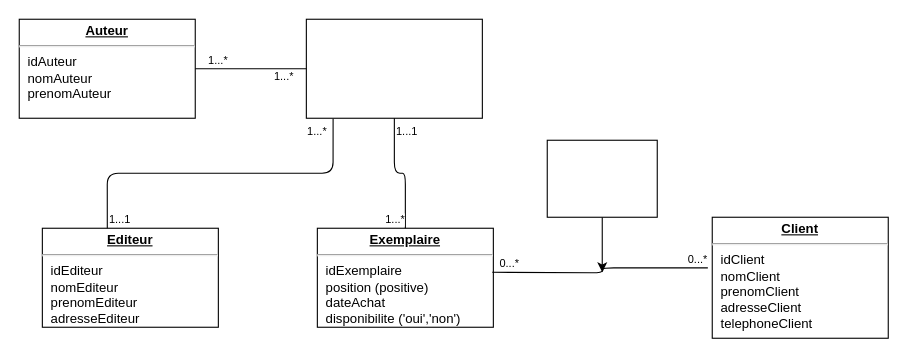
Some shapes in this 908 by 358 pixel diagram are drawn without their labels. The shapes that lost their labels are listed below. From the top down, each one's centre as x and y in pixels, then its label:
the point at 393,68: Livre idLivre titre description
the point at 601,178: Emprunt dateEmprunt dateRetour
